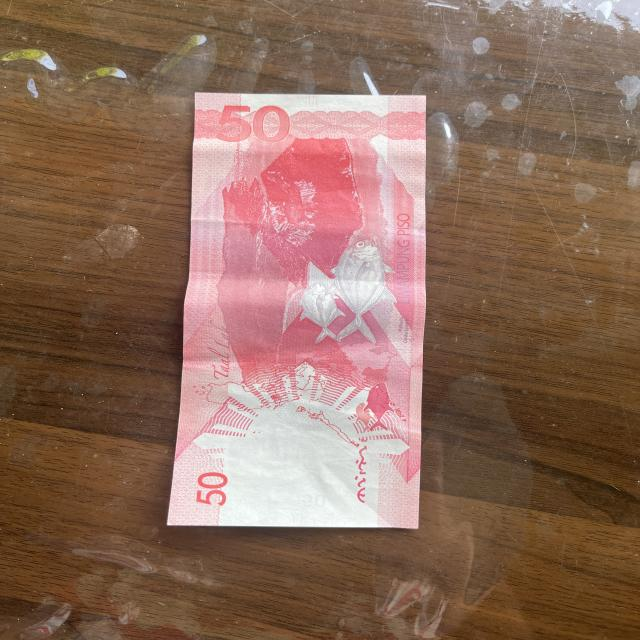50_maliputo: (260, 232, 406, 346)
50_maliputo_watermark: (343, 380, 404, 440)
watermark: (228, 432, 351, 512)
